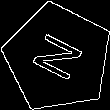N_SE: (26, 28, 90, 87)
